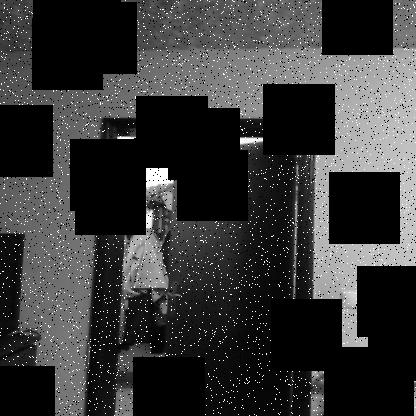Porte: (82, 118, 318, 415)
